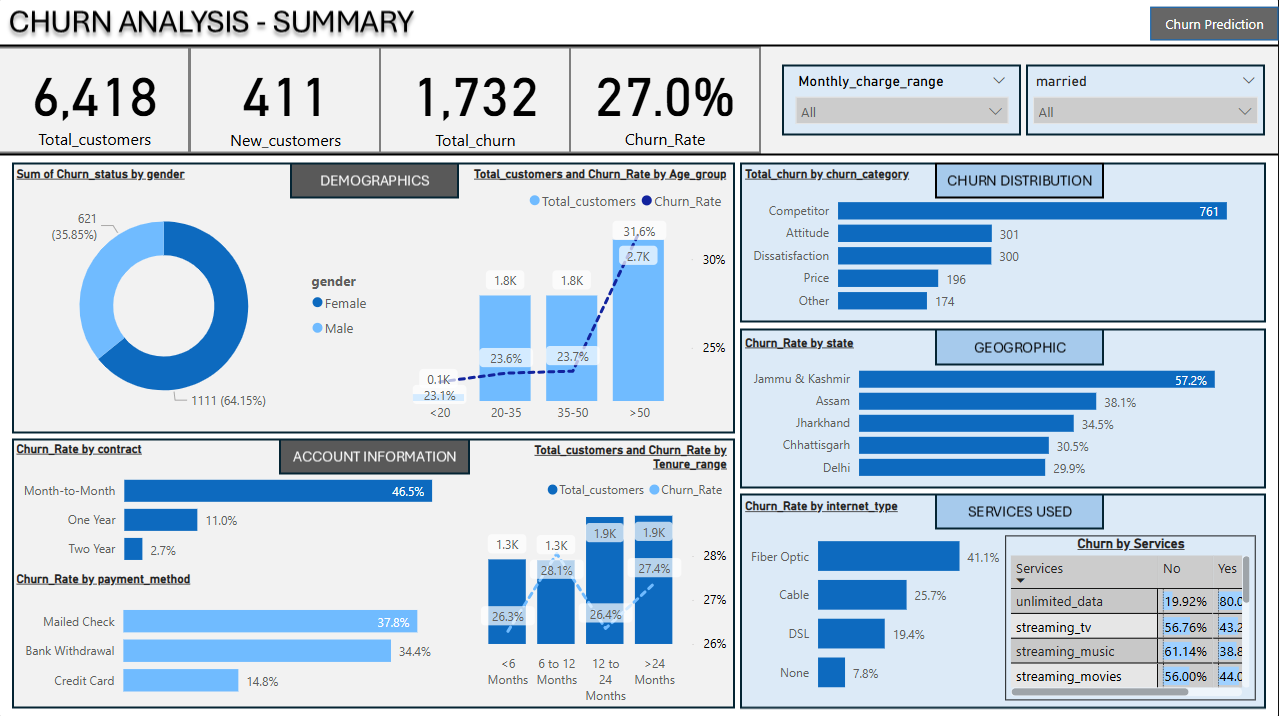

This screenshot's page, from the dashboard's own definition file:
{"tool":"powerbi","page":{"name":"Summary","canvas":[1280,720],"ordinal":0},"visuals":[{"type":"card","fields":{"Values":["Measure_table.Churn_Rate"]},"box":[570.9,51.8,190,102.7],"z":0},{"type":"card","fields":{"Values":["Measure_table.New_customers"]},"box":[191.8,51.8,190.9,103.6],"z":1000},{"type":"card","fields":{"Values":["Measure_table.Total_churn"]},"box":[382.7,51.8,188.2,103.6],"z":2000},{"type":"card","fields":{"Values":["Measure_table.Total_customers"]},"box":[0,51.8,191.8,102.7],"z":3000},{"type":"donutChart","fields":{"Category":["public prod_churn.gender"],"Y":["Sum(public prod_churn.Churn_status)"]},"box":[12.5,168.8,370,265],"z":4000},{"type":"lineStackedColumnComboChart","title":"Total_customers and Churn_Rate by Age_group","fields":{"Category":["Prod_AgeGrp.Age_grop"],"Y":["Measure_table.Total_customers"],"Y2":["Measure_table.Churn_Rate"]},"box":[382.7,169.1,350,264.5],"z":5000},{"type":"clusteredBarChart","fields":{"Category":["public prod_churn.payment_method"],"Y":["Measure_table.Churn_Rate"]},"box":[12.7,573.6,448.2,138.2],"z":6000},{"type":"barChart","fields":{"Category":["public prod_churn.contract"],"Y":["Measure_table.Churn_Rate"]},"box":[12.5,443.8,448.8,136.2],"z":7000},{"type":"lineStackedColumnComboChart","fields":{"Category":["mapping_tenure.Tenure_range"],"Y":["Measure_table.Total_customers"],"Y2":["Measure_table.Churn_Rate"]},"box":[460,445.5,272.7,268.2],"z":8000},{"type":"clusteredBarChart","fields":{"Category":["public prod_churn.state"],"Y":["Measure_table.Churn_Rate"]},"box":[741.2,337.5,517.5,155],"z":9000},{"type":"clusteredBarChart","fields":{"Category":["public prod_churn.churn_category"],"Y":["Measure_table.Total_churn"]},"box":[741.2,168.8,518.8,157.5],"z":10000},{"type":"clusteredBarChart","fields":{"Category":["public prod_churn.internet_type"],"Y":["Measure_table.Churn_Rate"]},"box":[741.2,501.2,268.8,210],"z":11000},{"type":"pivotTable","title":"Churn by Services","fields":{"Rows":["mapping_services.Services"],"Columns":["mapping_services.Status"],"Values":["Sum(mapping_services.Churn_status)"]},"box":[1006.2,537.5,250,165],"z":12000},{"type":"slicer","fields":{"Values":["mapping_services.Monthly_charge_range"]},"box":[785.7,70,232.9,67.1],"z":13000},{"type":"slicer","fields":{"Values":["public prod_churn.married"]},"box":[1023.8,70,245,67.5],"z":14000},{"type":"shape","title":"Previous","box":[1151.2,8.8,128.8,33.8],"z":15000}]}

Visuals, with their boxes in screenshot pixels (x1, y1, x2, y2), scaled from the page's 1280x720 canvas onto the 1279x716 screenshot:
card - Measure_table.Churn_Rate: 570,52,760,154
card - Measure_table.New_customers: 192,52,382,155
card - Measure_table.Total_churn: 382,52,570,155
card - Measure_table.Total_customers: 0,52,192,154
donutChart - public prod_churn.gender x Sum(public prod_churn.Churn_status): 12,168,382,431
"Total_customers and Churn_Rate by Age_group" lineStackedColumnComboChart: 382,168,732,431
clusteredBarChart - public prod_churn.payment_method x Measure_table.Churn_Rate: 13,570,461,708
barChart - public prod_churn.contract x Measure_table.Churn_Rate: 12,441,461,577
lineStackedColumnComboChart - mapping_tenure.Tenure_range x Measure_table.Total_customers: 460,443,732,710
clusteredBarChart - public prod_churn.state x Measure_table.Churn_Rate: 741,336,1258,490
clusteredBarChart - public prod_churn.churn_category x Measure_table.Total_churn: 741,168,1259,324
clusteredBarChart - public prod_churn.internet_type x Measure_table.Churn_Rate: 741,498,1009,707
"Churn by Services" pivotTable: 1005,535,1255,699
slicer - mapping_services.Monthly_charge_range: 785,70,1018,136
slicer - public prod_churn.married: 1023,70,1268,137
"Previous" shape: 1150,9,1278,42
